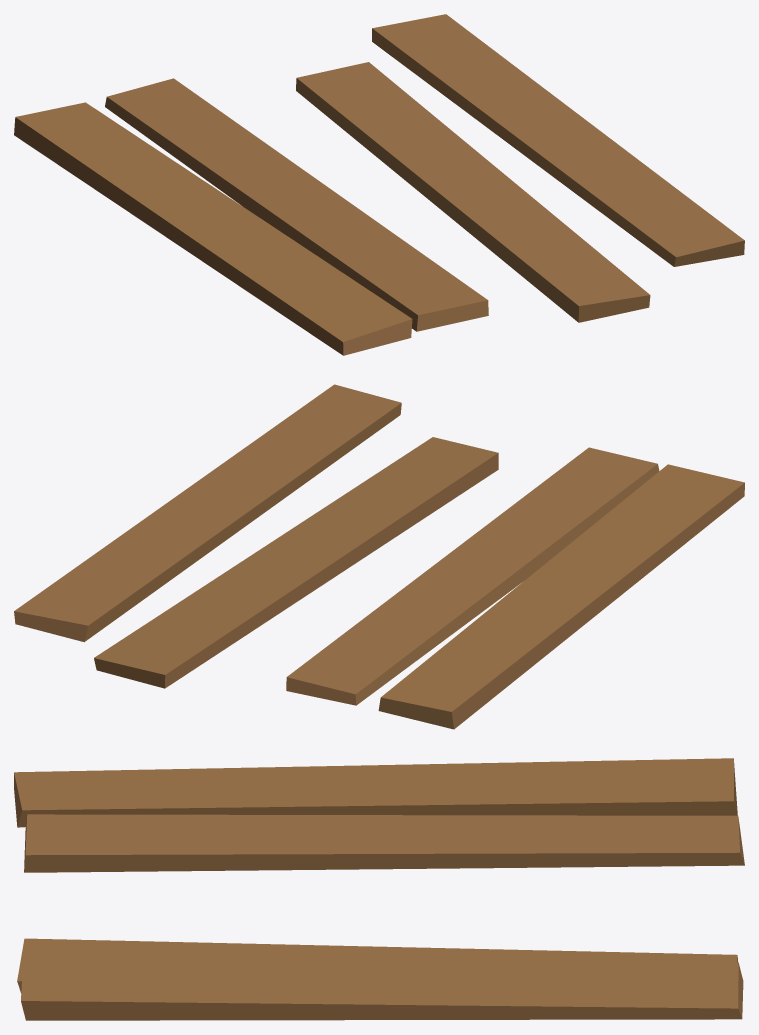
Rendered from Planked.fbx.
3 views of the same model, one above another, from view 1: azimuth 30°, elevation 25°; view 2: azimuth 150°, elevation 25°; view 3: azimuth 270°, elevation 25° (orthographic). The views are drawn at different scales.
Visible parts, largest first — view 1: Planked; view 2: Planked; view 3: Planked.
Boxes of the visible parts, x1,y1,x2,y2 form: Planked: [14, 14, 744, 355]; Planked: [14, 384, 744, 729]; Planked: [14, 758, 744, 1020].
Size of the model in its own units: 1.87 by 0.1932 by 2.35.
